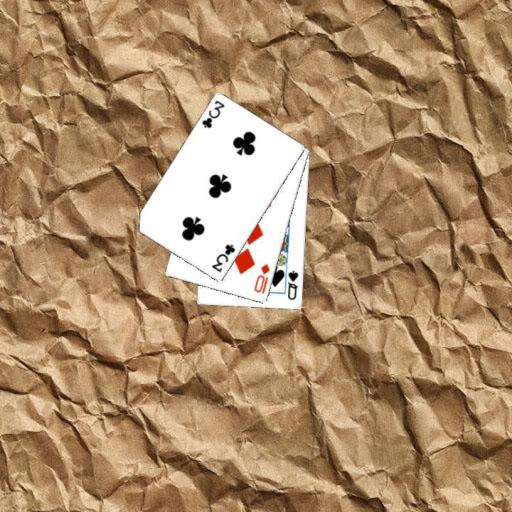10D: (251, 261, 272, 295)
3C: (208, 241, 237, 274), (199, 98, 226, 130)
QS: (285, 268, 300, 302)
